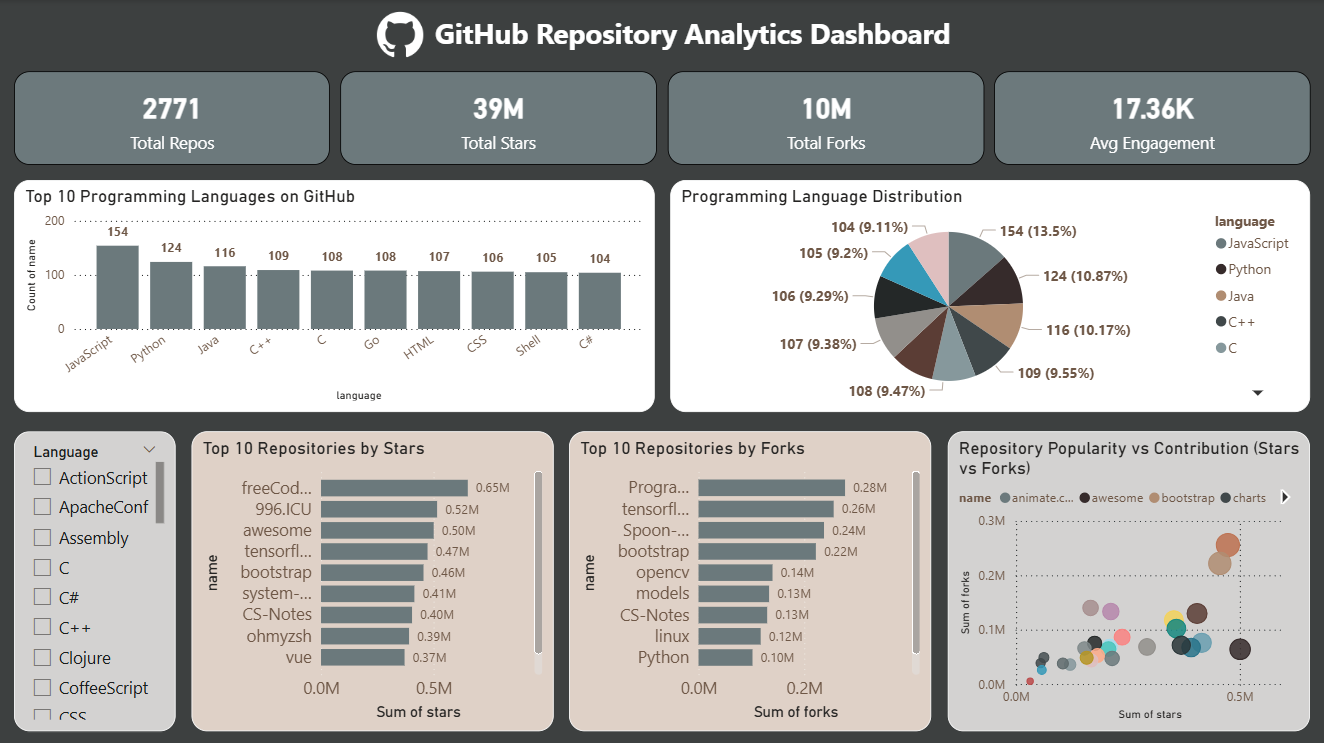

This screenshot's page, from the dashboard's own definition file:
{"tool":"powerbi","page":{"name":"Page 1","canvas":[1280,720],"ordinal":0},"visuals":[{"type":"card","fields":{"Values":["final_dataset.Total Repos"]},"box":[14.5,69,305,90.5],"z":0},{"type":"card","fields":{"Values":["final_dataset.Total Stars"]},"box":[329.4,68.8,305.2,90.5],"z":1000},{"type":"card","fields":{"Values":["final_dataset.Total Forks"]},"box":[645.4,68.8,305.2,90.5],"z":2000},{"type":"card","fields":{"Values":["final_dataset.Avg Engagement"]},"box":[960.3,68.8,305.2,90.5],"z":3000},{"type":"columnChart","title":"Top 10 Programming Languages on GitHub","fields":{"Category":["final_dataset.language"],"Y":["CountNonNull(final_dataset.name)"]},"box":[14.5,173.7,618,224.4],"z":4000},{"type":"pieChart","title":"Programming Language Distribution","fields":{"Category":["final_dataset.language"],"Y":["CountNonNull(final_dataset.name)"]},"box":[647.9,173.7,617.7,224.4],"z":5000},{"type":"barChart","title":"Top 10 Repositories by Stars","fields":{"Category":["final_dataset.name"],"Y":["Sum(final_dataset.stars)"]},"box":[185.8,416.2,349.9,289.5],"z":6000},{"type":"barChart","title":"Top 10 Repositories by Forks","fields":{"Category":["final_dataset.name"],"Y":["Sum(final_dataset.forks)"]},"box":[550.1,416.2,349.9,289.5],"z":7000},{"type":"scatterChart","title":"Repository Popularity vs Contribution (Stars vs Forks)","fields":{"Y":["Sum(final_dataset.forks)1"],"X":["Sum(final_dataset.stars)1"],"Size":["Sum(final_dataset.engagement)1"],"Series":["final_dataset.name"]},"box":[915.7,416.2,349.9,289.5],"z":8000},{"type":"slicer","fields":{"Values":["final_dataset.language"]},"box":[14.5,416.2,155.6,289.5],"z":9000},{"type":"textbox","box":[360.8,8.6,617.7,50.7],"z":10000},{"type":"image","box":[360.8,11,53.1,44.6],"z":11000}]}

Visuals, with their boxes in screenshot pixels (x1, y1, x2, y2), scaled from the page's 1280x720 canvas onto the 1324x743 screenshot:
card - final_dataset.Total Repos: {"x1": 15, "y1": 71, "x2": 330, "y2": 165}
card - final_dataset.Total Stars: {"x1": 341, "y1": 71, "x2": 656, "y2": 164}
card - final_dataset.Total Forks: {"x1": 668, "y1": 71, "x2": 983, "y2": 164}
card - final_dataset.Avg Engagement: {"x1": 993, "y1": 71, "x2": 1309, "y2": 164}
"Top 10 Programming Languages on GitHub" columnChart: {"x1": 15, "y1": 179, "x2": 654, "y2": 411}
"Programming Language Distribution" pieChart: {"x1": 670, "y1": 179, "x2": 1309, "y2": 411}
"Top 10 Repositories by Stars" barChart: {"x1": 192, "y1": 429, "x2": 554, "y2": 728}
"Top 10 Repositories by Forks" barChart: {"x1": 569, "y1": 429, "x2": 931, "y2": 728}
"Repository Popularity vs Contribution (Stars vs Forks)" scatterChart: {"x1": 947, "y1": 429, "x2": 1309, "y2": 728}
slicer - final_dataset.language: {"x1": 15, "y1": 429, "x2": 176, "y2": 728}
textbox: {"x1": 373, "y1": 9, "x2": 1012, "y2": 61}
image: {"x1": 373, "y1": 11, "x2": 428, "y2": 57}
